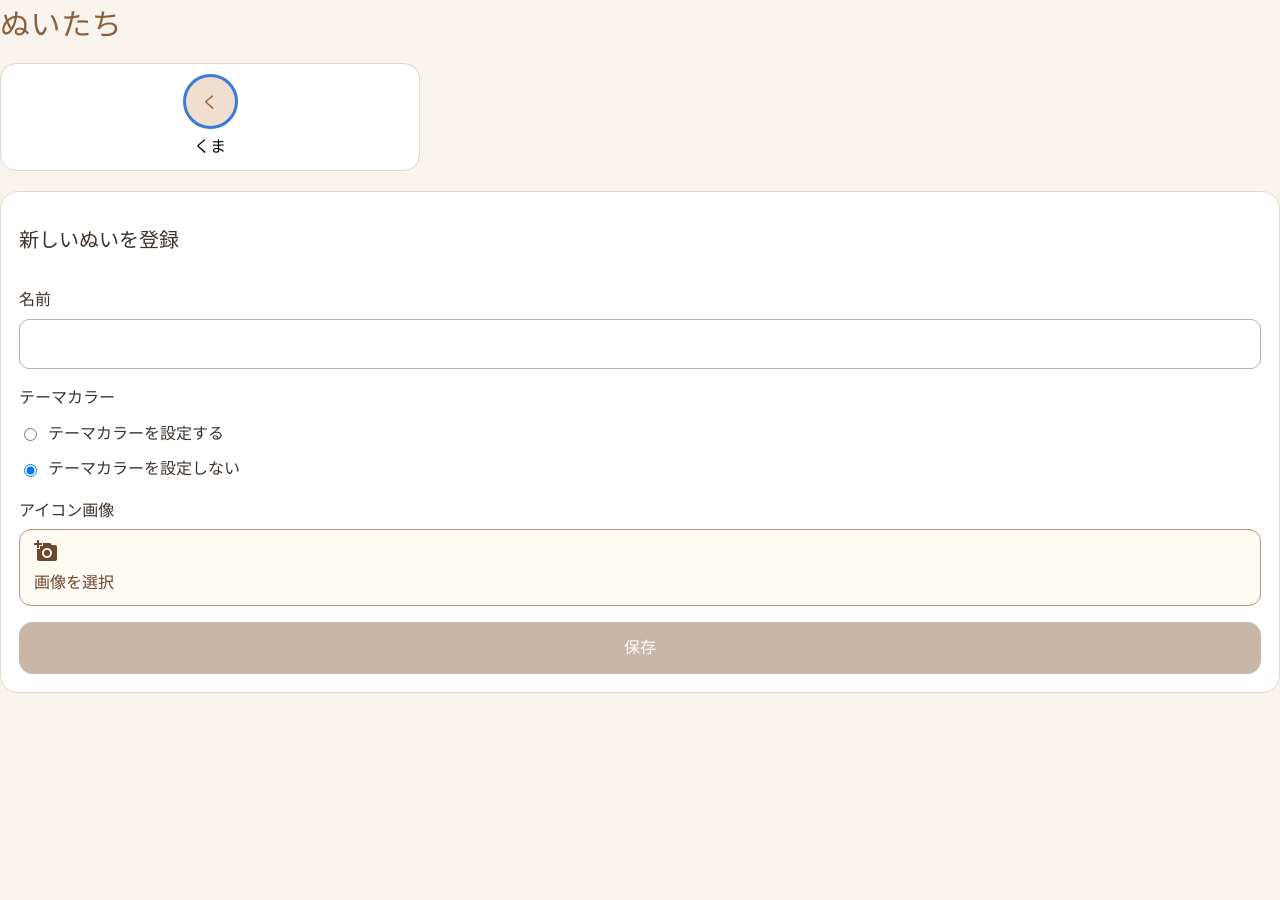
ぬいぐるみのテーマカラー設定 › 登録済みのテーマカラーを編集画面へ反映する
Step 1. Click the button "く くま" → (210, 117), box [0,63,420,171]
(page scrolled)
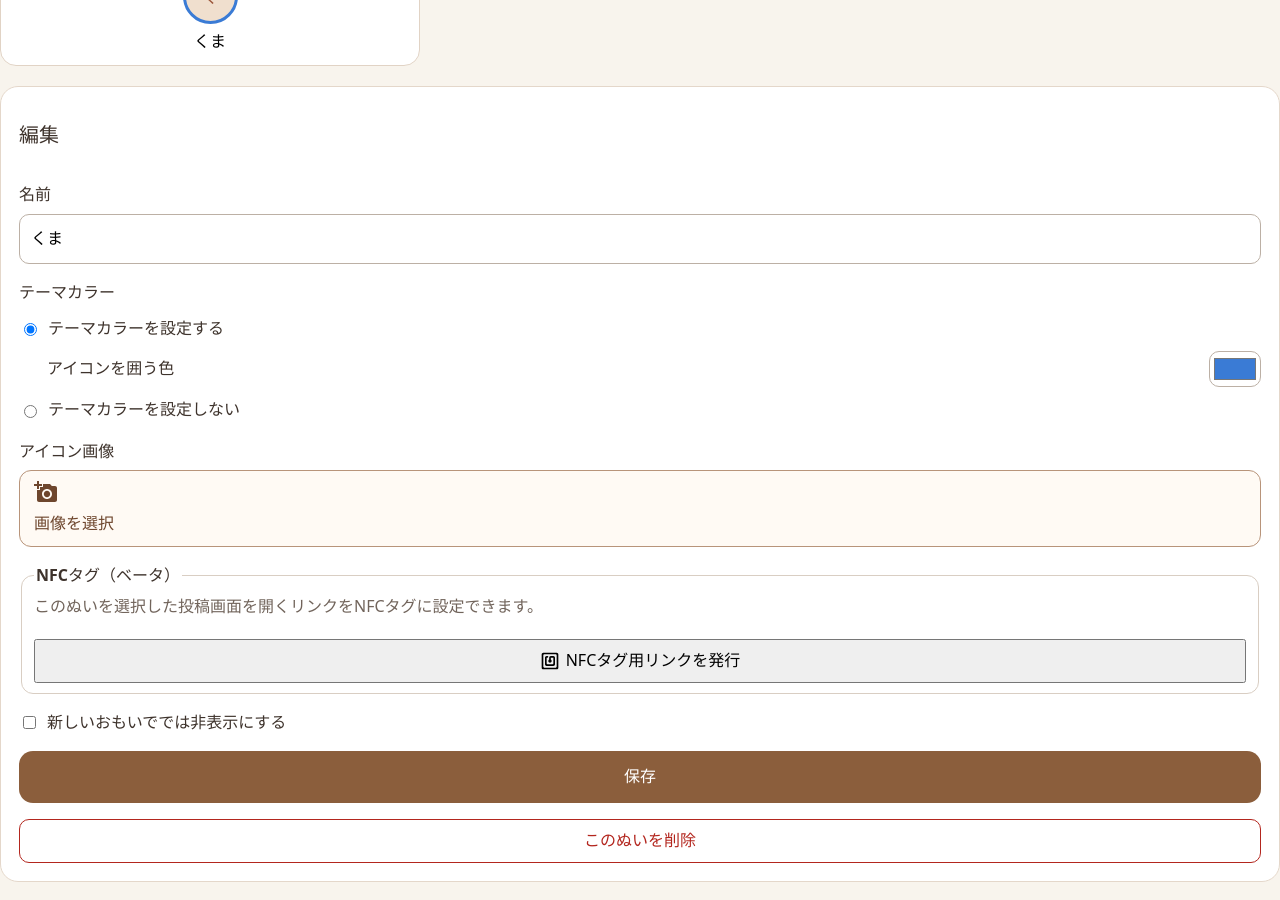
Expected: the radio button labelled "テーマカラーを設定する" is checked, [24,323,37,336]
Expected: the radio button labelled "テーマカラーを設定しない" is not checked, [24,405,37,418]
Expected: the colour field named "テーマカラー" holds "#3a7bd5", [1209,351,1261,387]
